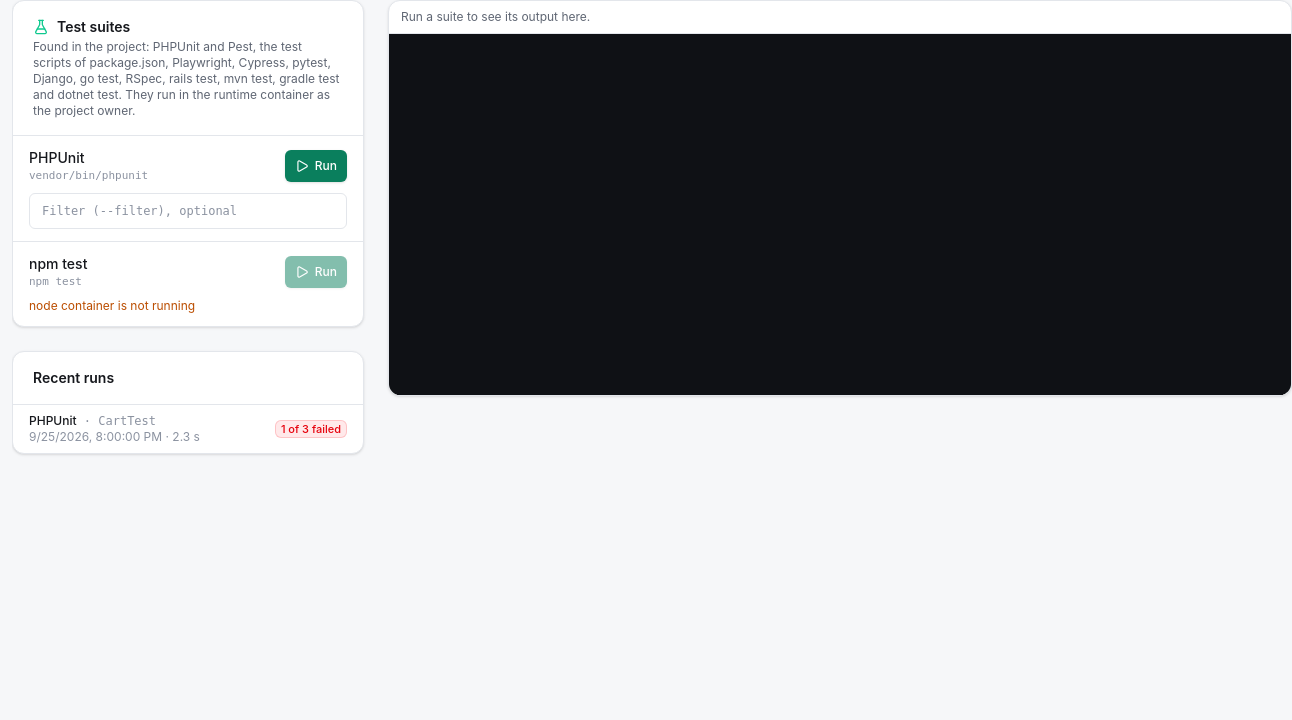
Scenario: TestsTab › lists recent runs and opens one
Click the text "· CartTest" at {"x": 87, "y": 421}, box [76,414,156,428]
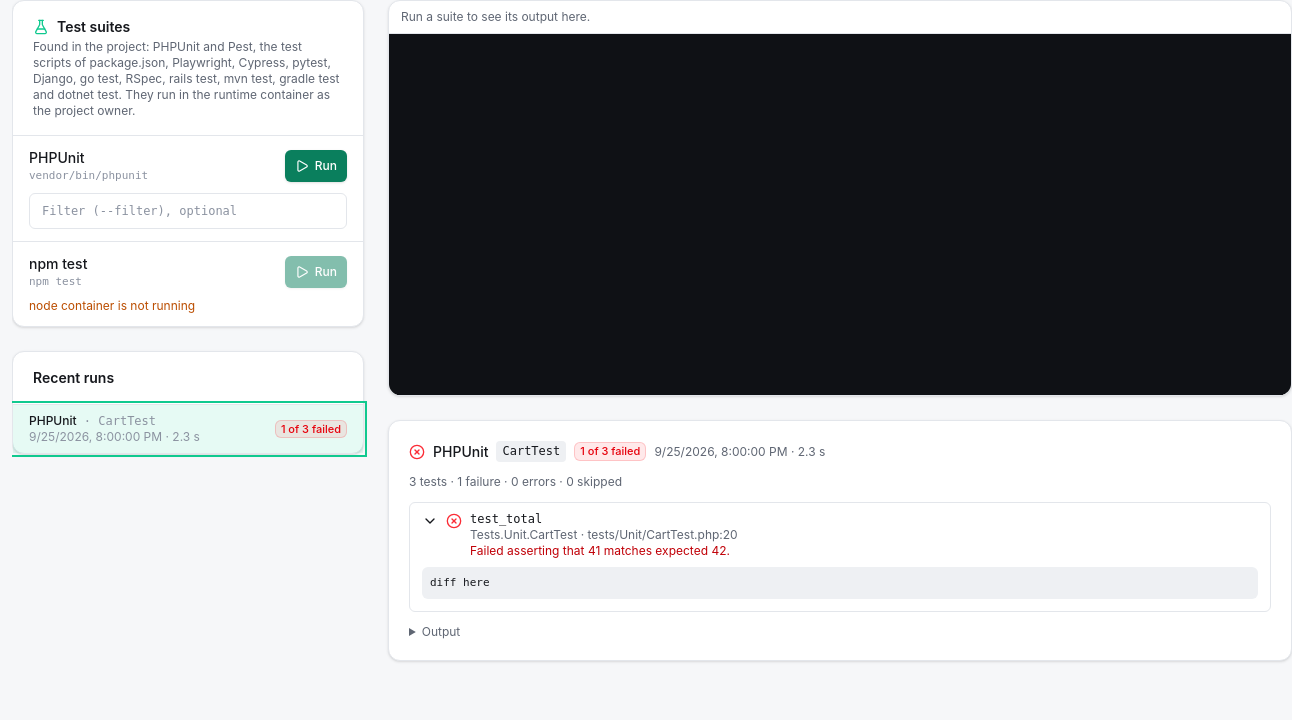
Expected: the text "Failed asserting that 41 matches expected 42." is shown, [470,543,730,558]
Click the heading "Output" at {"x": 441, "y": 631}, box [422,624,460,639]
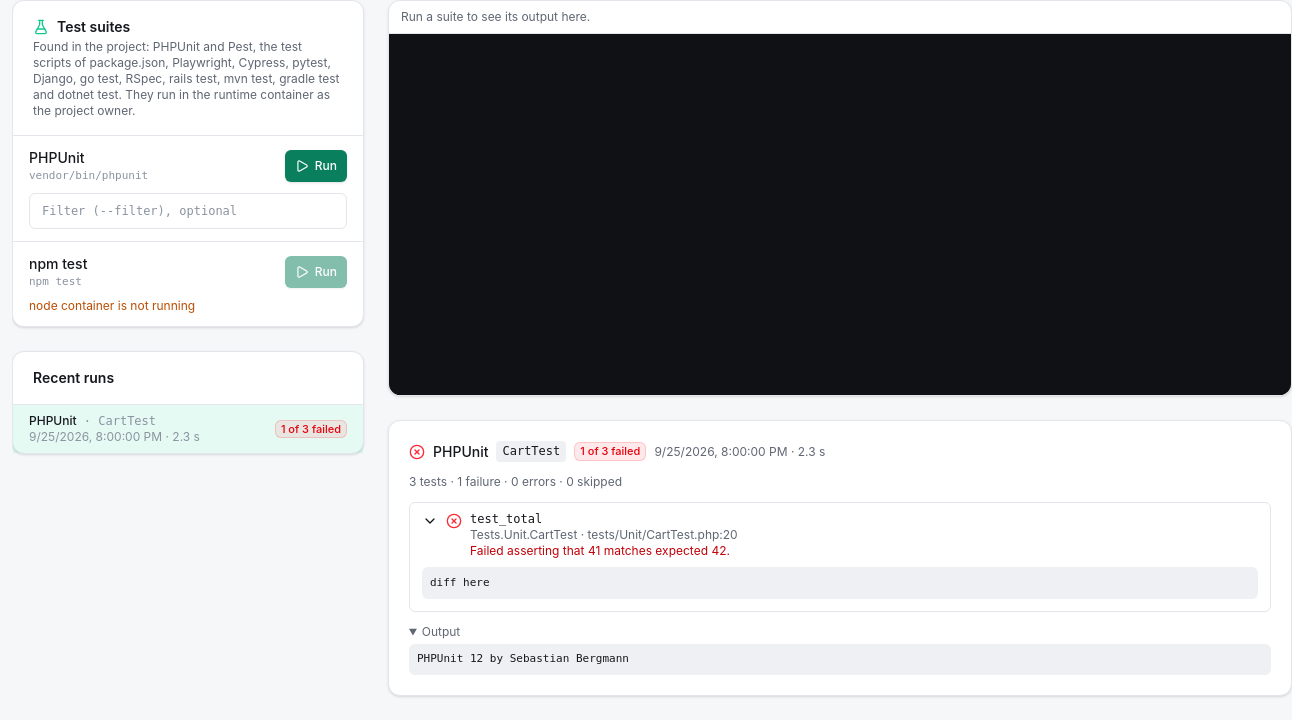
Expected: the text "PHPUnit 12 by Sebastian Bergmann" is shown, [409,644,1271,674]
